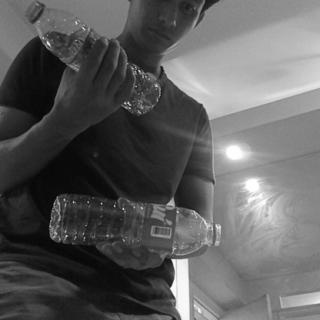plastic_bottles: (20, 0, 164, 114), (48, 192, 222, 257)
